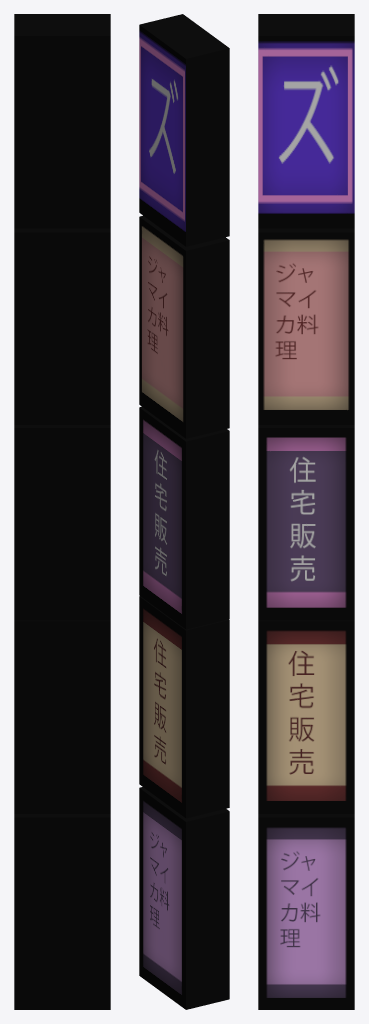
The model's file is MiniVertSignGroup1.fbx.
3 renders of one model, left to right at view 1: azimuth 90°, elevation 25°; view 2: azimuth 210°, elevation 25°; view 3: azimuth 270°, elevation 25°, orthographic. The views are drawn at different scales.
Visible parts, largest first — view 1: Cube.005; view 2: Cube.005; view 3: Cube.005.
Part boxes in pixels (left/top/right/bottom): Cube.005: left=14, top=14, right=110, bottom=1009; Cube.005: left=139, top=14, right=229, bottom=1009; Cube.005: left=258, top=14, right=354, bottom=1009.
Bounding box in the file's own units: 64.36 × 1336 × 119.
